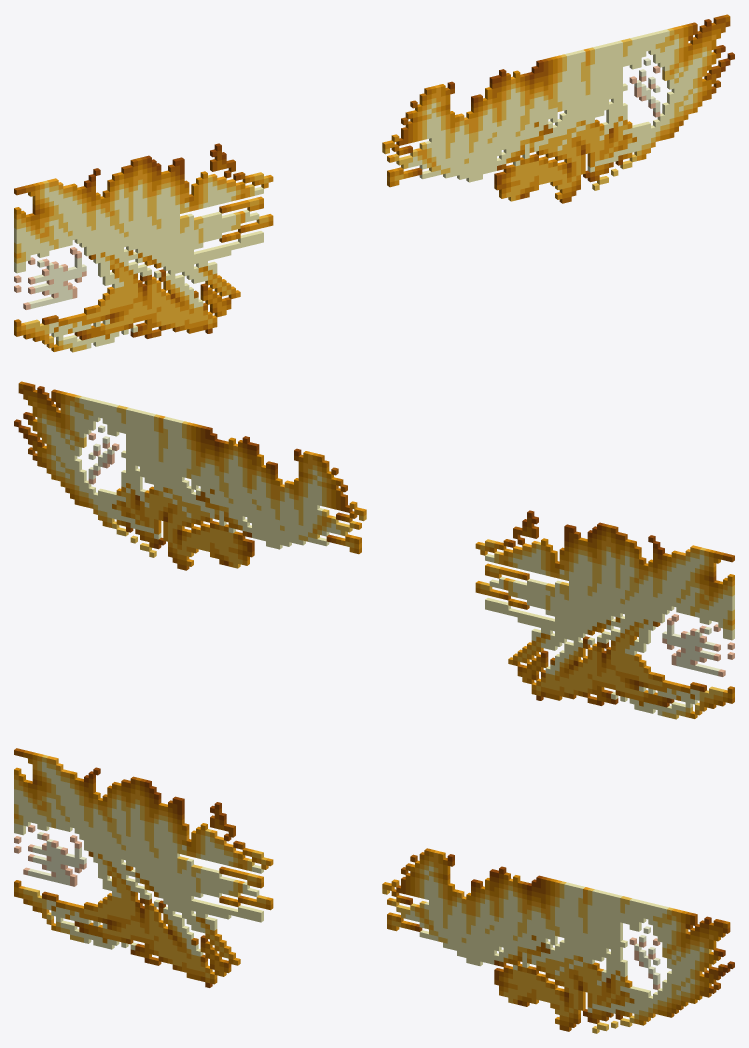
File: Fight_756_2_06_fx.obj
3 renders of one model, top to bottom at view 1: azimuth 30°, elevation 25°; view 2: azimuth 150°, elevation 25°; view 3: azimuth 330°, elevation 25°, orthographic.
Size of the model in its own units: 15.4 by 3.9 by 0.1.
Materials: 1 (1 with a texture image).
